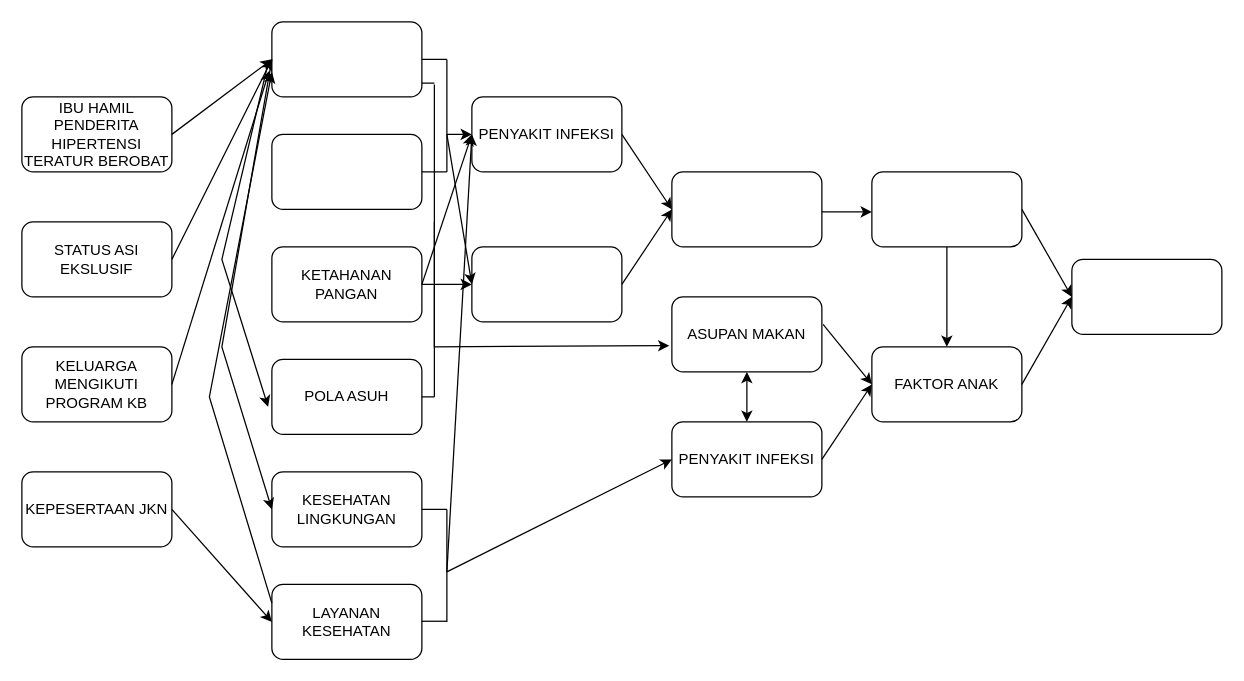
This 1244x681 diagram has some shape labels left out. Each missing label, with the centre of its shape:
"ASUPAN MAKANAN" goes at (546,284).
"FAKTOR IBU" goes at (946,209).
"PENDAPATAN KELUARGA" goes at (346,171).
"STATUS GIZI IBU" goes at (746,209).
"STUNTING" goes at (1146,296).
"TINGKAT PENGETAHUAN IBU" goes at (346,59).
